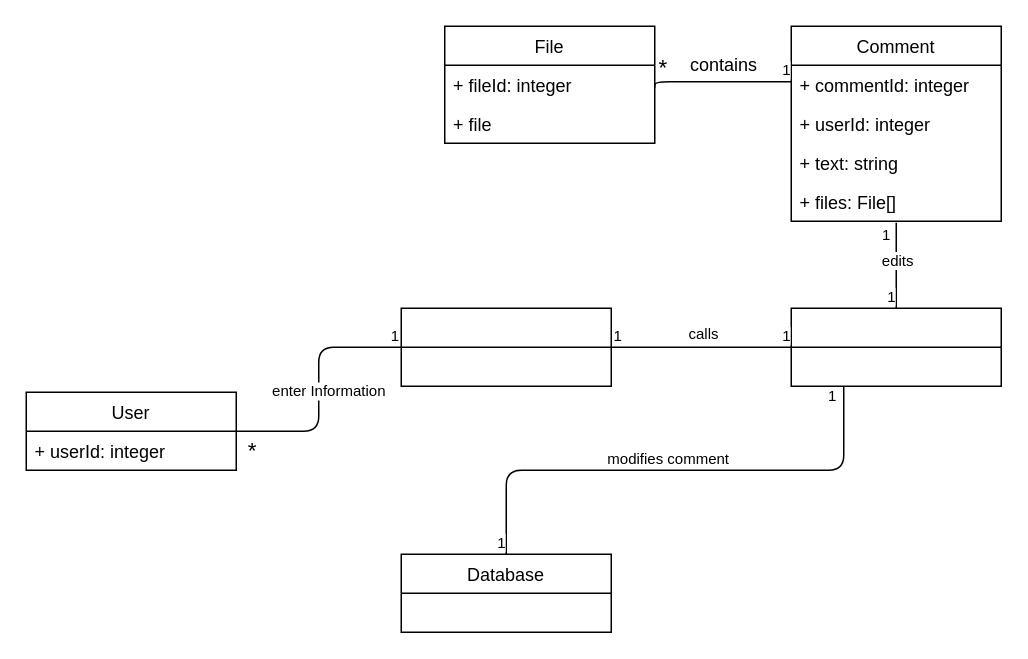
This 1028x659 diagram has some shape labels left out. The centre of each missing label's shape, as x and y in pixels:
"API" goes at point 895,346.
"UI" goes at point 505,346.
